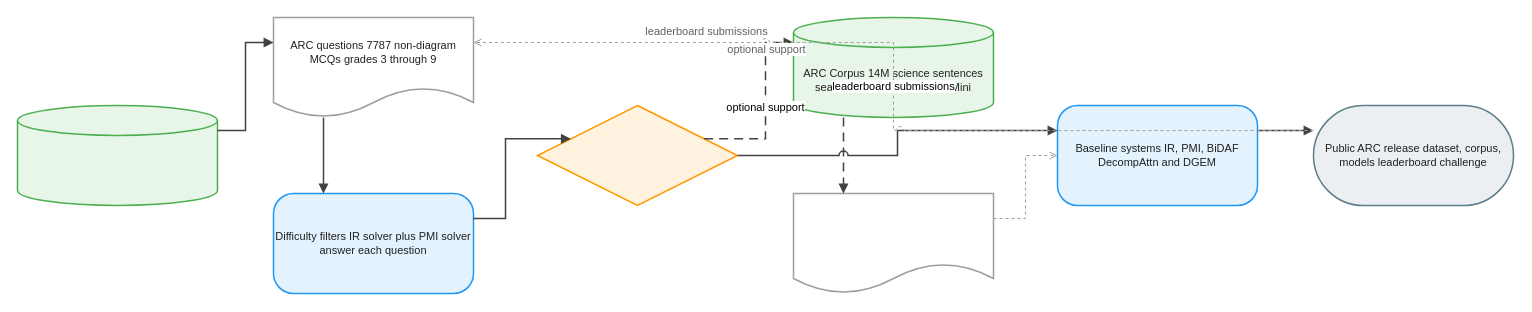
Image size: 1532x312. Some labels were removed from this diagram. The centre of each missing label's shape, as x and y in pixels:
Challenge and Easy split 2590 hard, 5197 easy train/dev/test partitions: the point at 637,155
Public science exams natural grade-school questions human-authored tests: the point at 117,155
Reasoning analysis knowledge type categories 95% coverage sample: the point at 893,243
